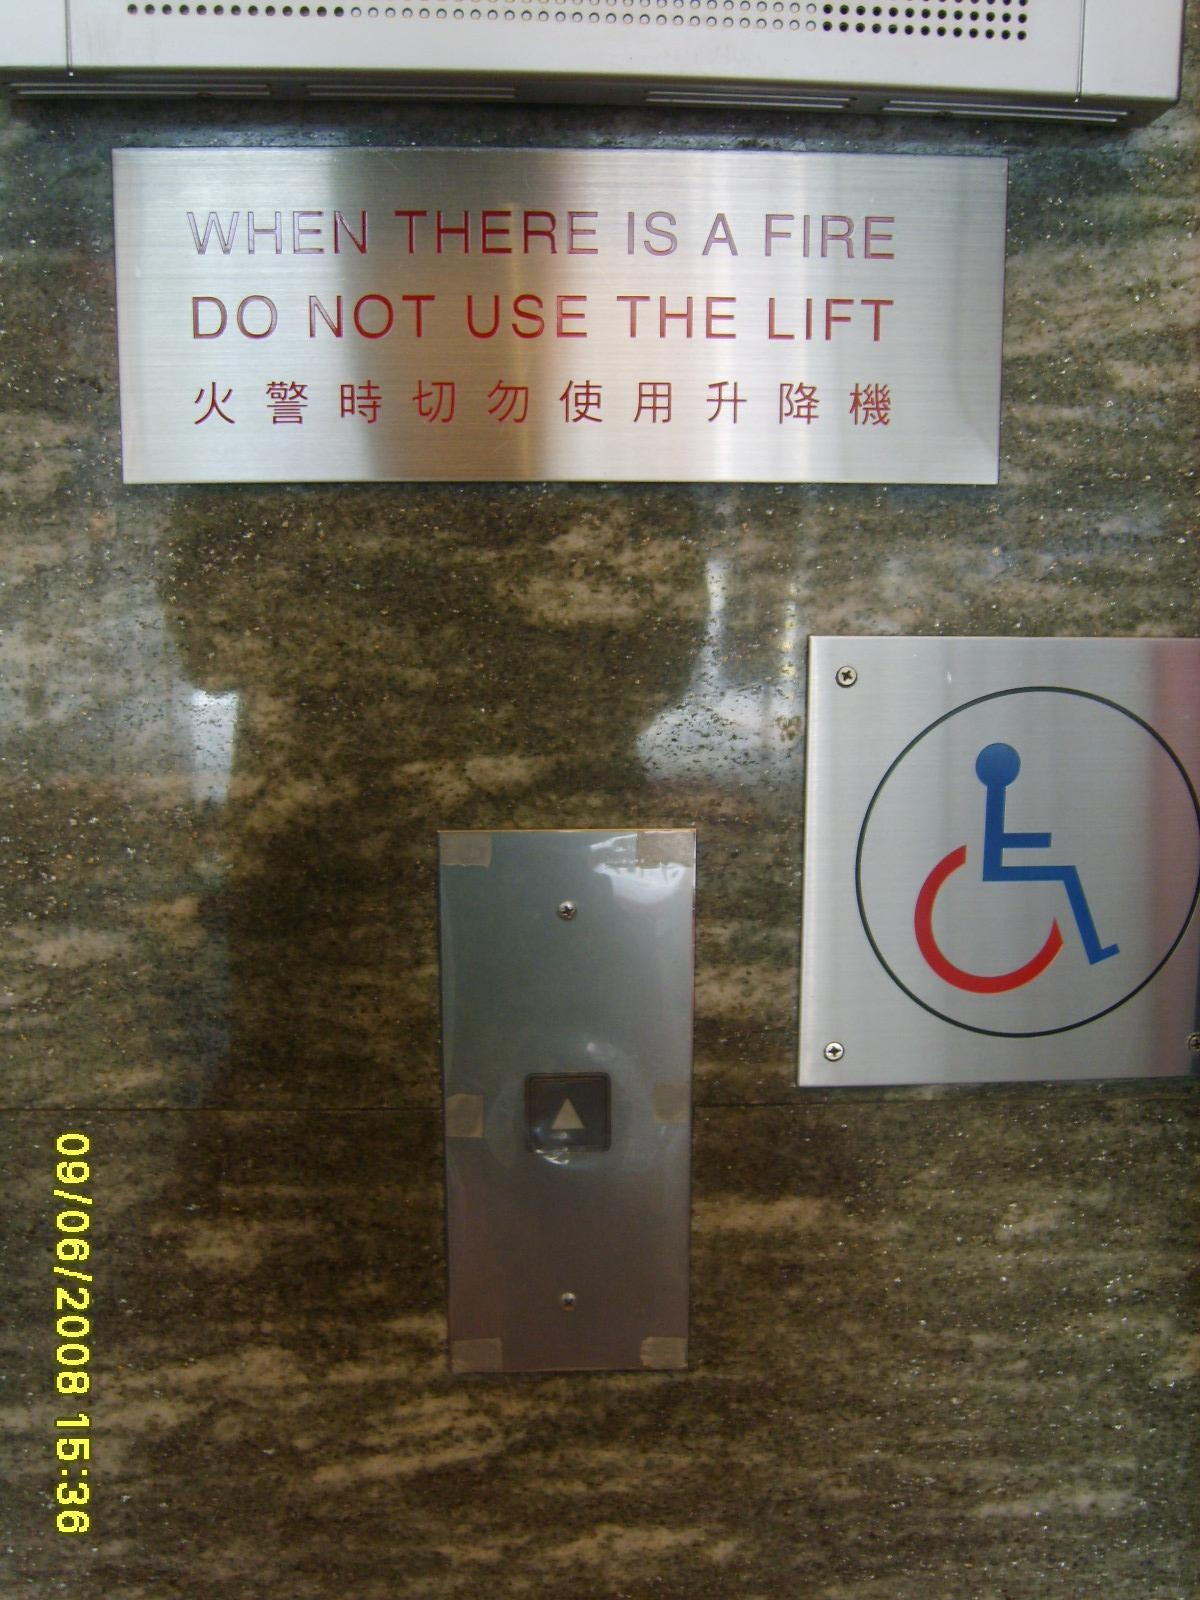CH: (792, 625, 1200, 1096)
up: (521, 1071, 615, 1159)
